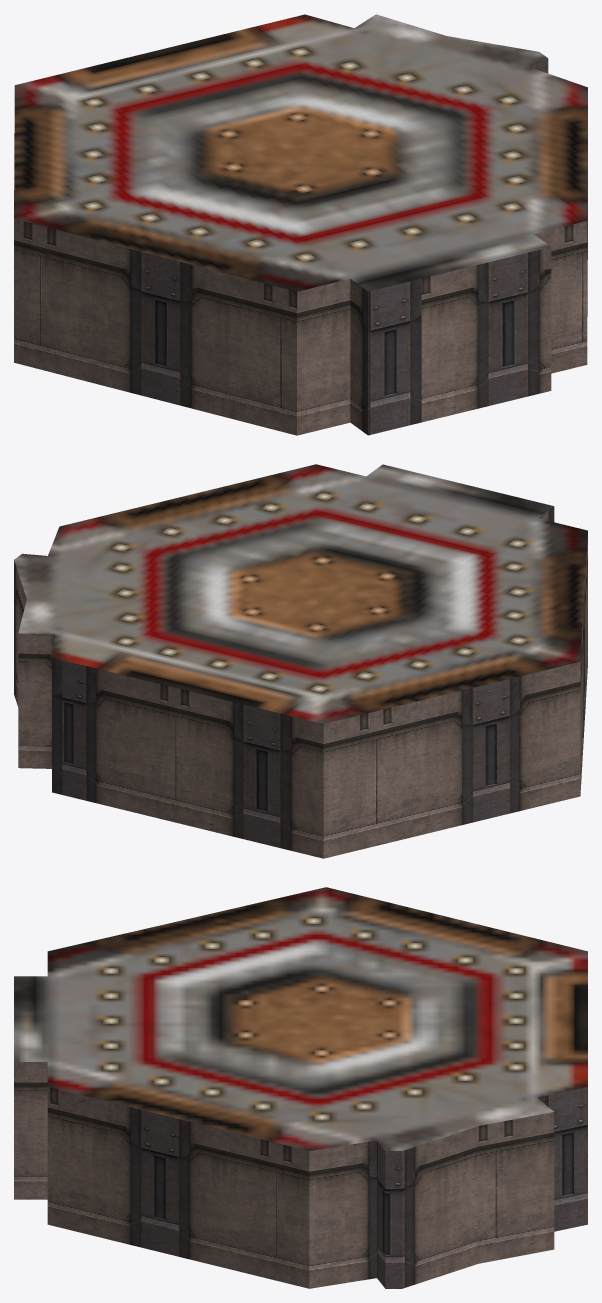
File: bsealed_hard_a_10.glb
The picture shows the model from 3 angles, top to bottom: view 1: azimuth 30°, elevation 25°; view 2: azimuth 150°, elevation 25°; view 3: azimuth 270°, elevation 25°; orthographic projection. The views are drawn at different scales.
Visible parts, largest first — view 1: buildings/saxarba/bsealed_hard/bsealed_hard_a_10; view 2: buildings/saxarba/bsealed_hard/bsealed_hard_a_10; view 3: buildings/saxarba/bsealed_hard/bsealed_hard_a_10.
Part boxes in pixels (box(x1,y1,x2,y2)): buildings/saxarba/bsealed_hard/bsealed_hard_a_10: box(14, 14, 587, 435); buildings/saxarba/bsealed_hard/bsealed_hard_a_10: box(14, 464, 587, 858); buildings/saxarba/bsealed_hard/bsealed_hard_a_10: box(14, 887, 587, 1288).
Size of the model in its own units: 74 by 18 by 68.
